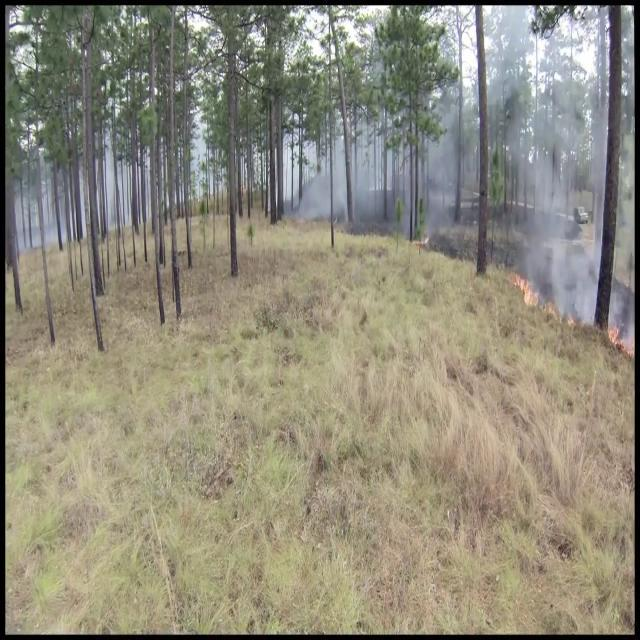Fire: (515, 260, 542, 320)
Smoke: (510, 24, 636, 331), (294, 120, 404, 221)
